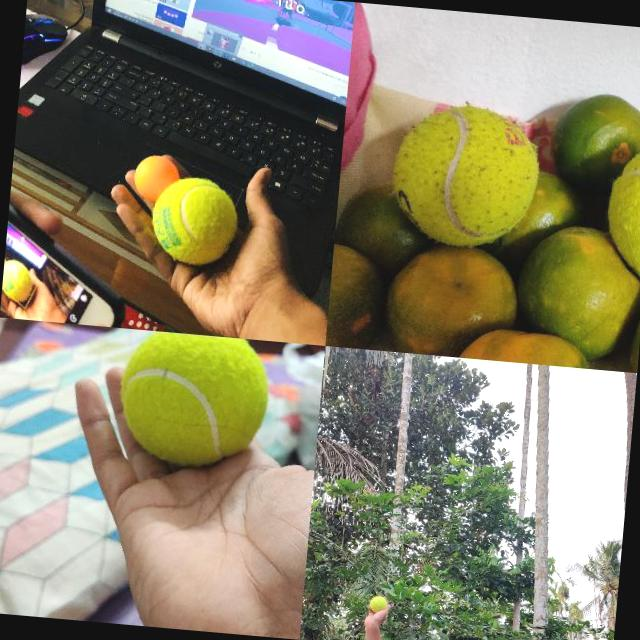Tennis Ball: (387, 99, 545, 251), (112, 328, 274, 473), (148, 175, 238, 267), (369, 594, 387, 612)
